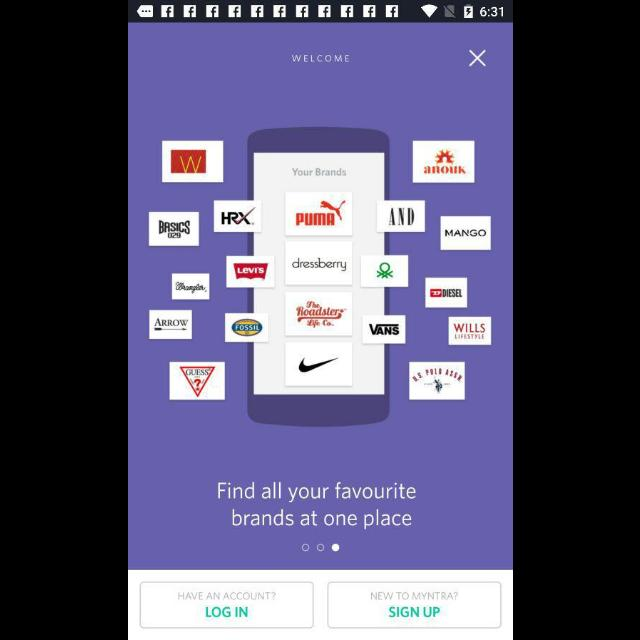icon: (468, 50, 486, 68)
image: (148, 126, 490, 428)
pageindicator: (300, 544, 340, 552)
text: (217, 482, 416, 530), (291, 55, 349, 63)
textbutton: (326, 582, 500, 628), (140, 582, 314, 628)
uppertaskbar: (128, 1, 512, 23)
